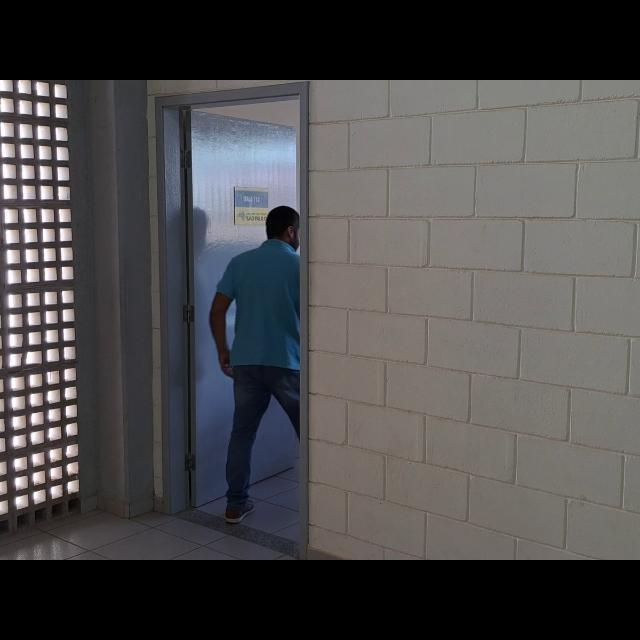door: (155, 84, 307, 529)
